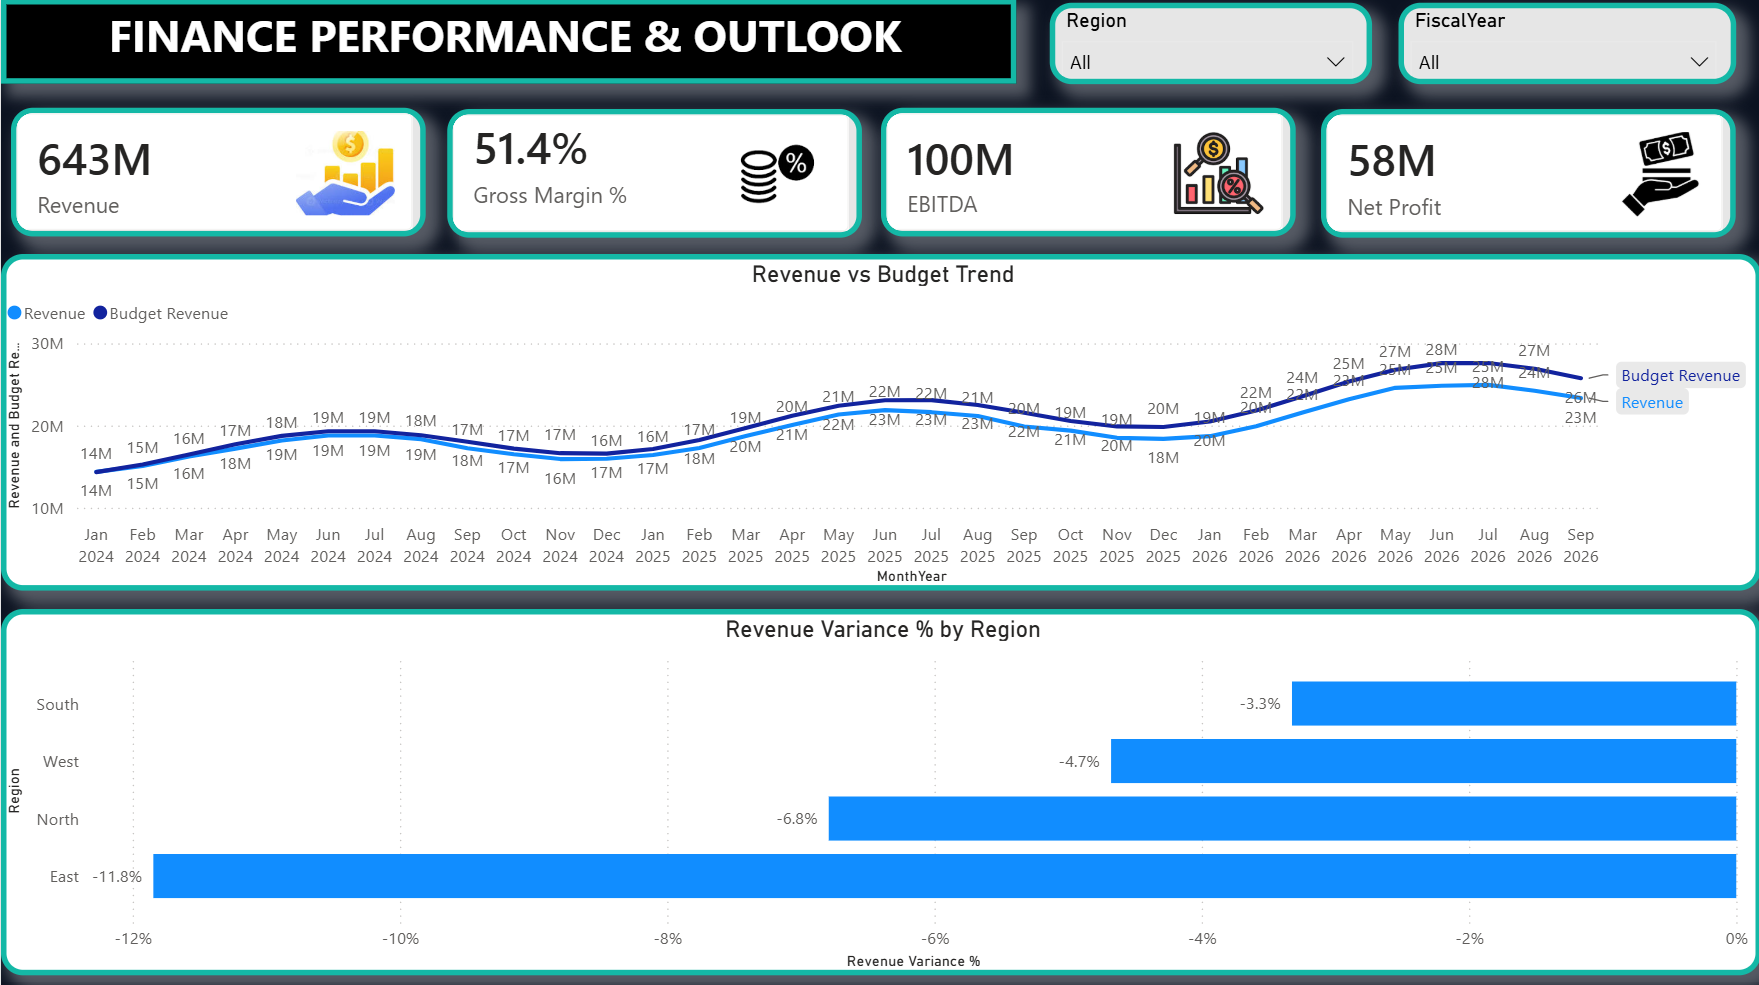

The page's visual inventory and layout, read from the dashboard file:
{"tool":"powerbi","page":{"name":"Executive Summary","canvas":[1280,720],"ordinal":0},"visuals":[{"type":"textbox","box":[0,0,738.2,61.8],"z":0},{"type":"slicer","fields":{"Values":["DimDate.FiscalYear"]},"box":[1016.4,2.7,245.5,59.1],"z":1000},{"type":"slicer","fields":{"Values":["DimRegion.Region"]},"box":[762.7,2.7,234.5,59.1],"z":2000},{"type":"cardVisual","fields":{"Data":["_Measures.Revenue"]},"box":[7.3,79.1,301.8,93.6],"z":3000},{"type":"cardVisual","fields":{"Data":["_Measures.Gross Margin %"]},"box":[324.5,80,301.8,93.6],"z":4000},{"type":"cardVisual","fields":{"Data":["_Measures.EBITDA"]},"box":[640,79.1,301.8,93.6],"z":5000},{"type":"cardVisual","fields":{"Data":["_Measures.Net Profit"]},"box":[960,80,301.8,93.6],"z":6000},{"type":"lineChart","title":"Revenue vs Budget Trend","fields":{"Category":["DimDate.MonthYear"],"Y":["_Measures.Revenue","_Measures.Budget Revenue"]},"box":[0,185.5,1280,244.5],"z":7000},{"type":"barChart","fields":{"Category":["DimRegion.Region"],"Y":["_Measures.Revenue Variance %"]},"box":[0,443.6,1280,266.4],"z":8000}]}

Visuals, with their boxes in screenshot pixels (x1, y1, x2, y2), scaled from the page's 1280x720 canvas onto the 1759x985 screenshot:
textbox: x1=0 y1=0 x2=1014 y2=85
slicer - DimDate.FiscalYear: x1=1397 y1=4 x2=1734 y2=85
slicer - DimRegion.Region: x1=1048 y1=4 x2=1370 y2=85
cardVisual - _Measures.Revenue: x1=10 y1=108 x2=425 y2=236
cardVisual - _Measures.Gross Margin %: x1=446 y1=109 x2=861 y2=237
cardVisual - _Measures.EBITDA: x1=880 y1=108 x2=1294 y2=236
cardVisual - _Measures.Net Profit: x1=1319 y1=109 x2=1734 y2=237
"Revenue vs Budget Trend" lineChart: x1=0 y1=254 x2=1758 y2=588
barChart - DimRegion.Region x _Measures.Revenue Variance %: x1=0 y1=607 x2=1758 y2=971
